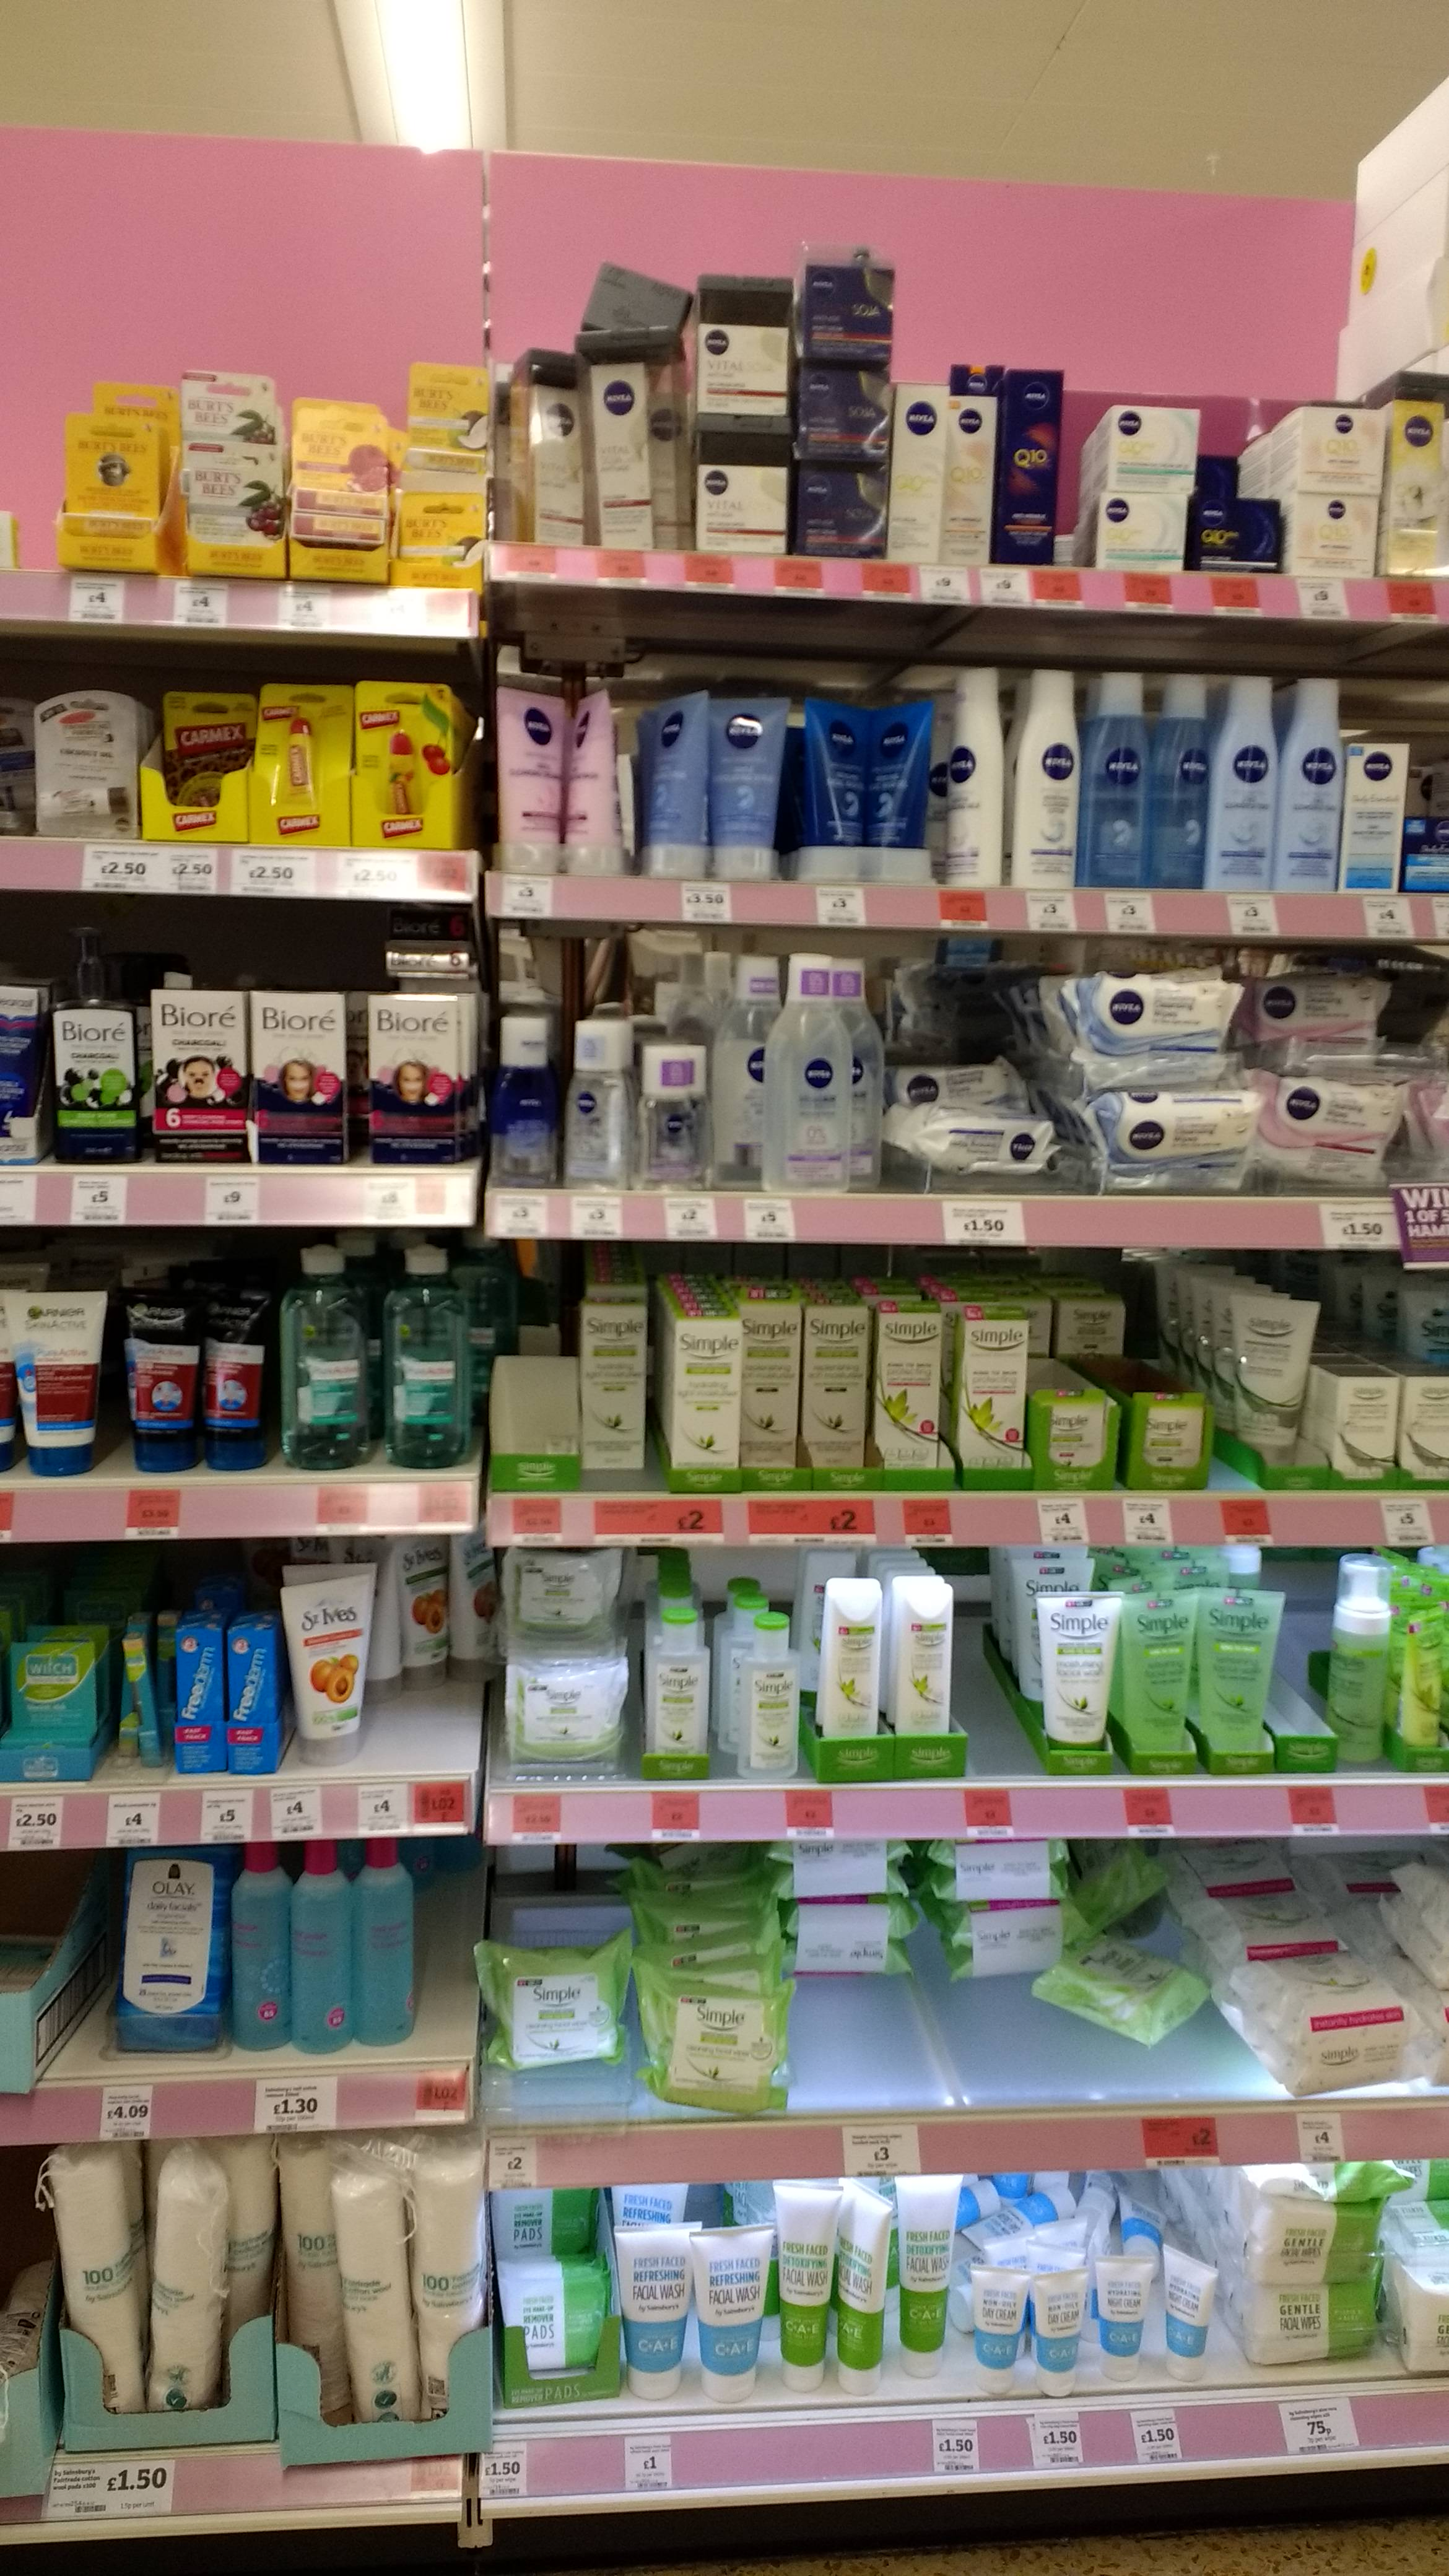Misplacement: (740, 1293, 883, 1493)
